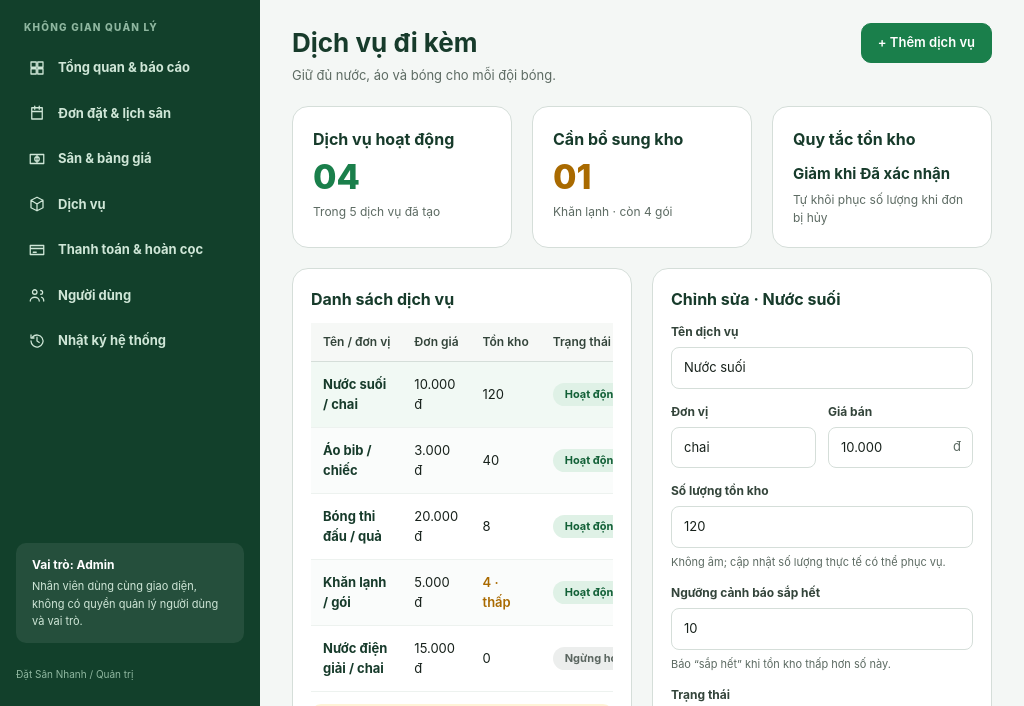
it: Admin Dịch vụ - sửa và thêm › "Hủy sửa" trả form về giá trị đã lưu
The width and height of the screenshot is (1024, 706).
Expected: the heading "Chỉnh sửa · Nước suối" is shown, [671,289,840,309]
In the field labelled "Tên dịch vụ": (822, 368) [671,347,973,388], type " thêm"
(page scrolled)
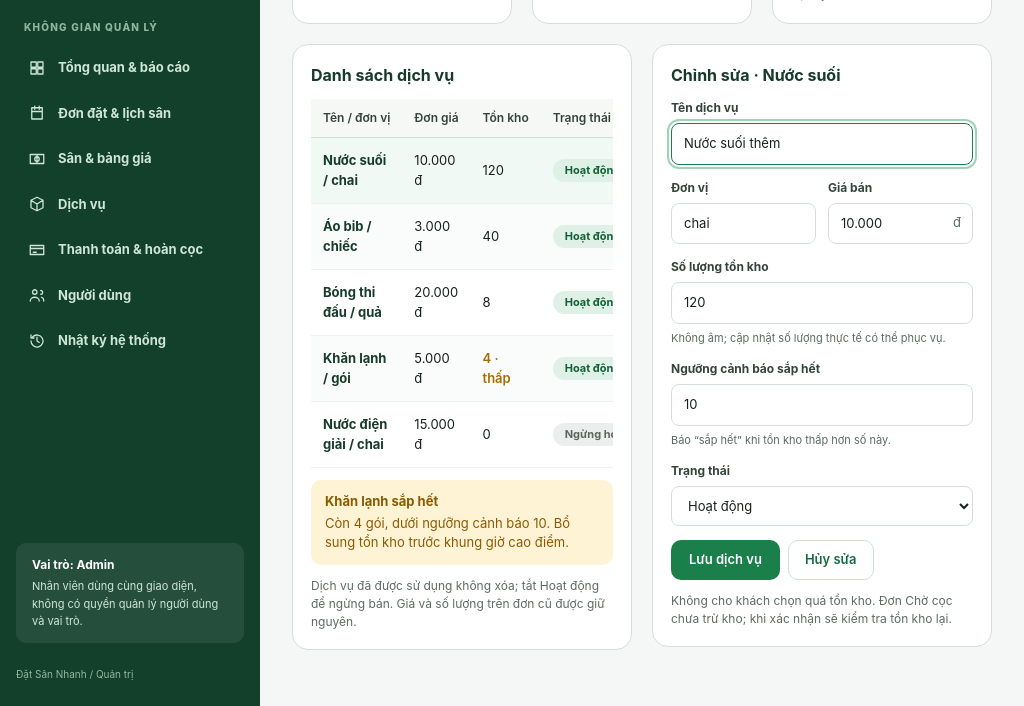
Now the field labelled "Tên dịch vụ" holds "Nước suối thêm", box [671,123,973,164]
Click the button "Hủy sửa": click(831, 560) [788,540,874,580]
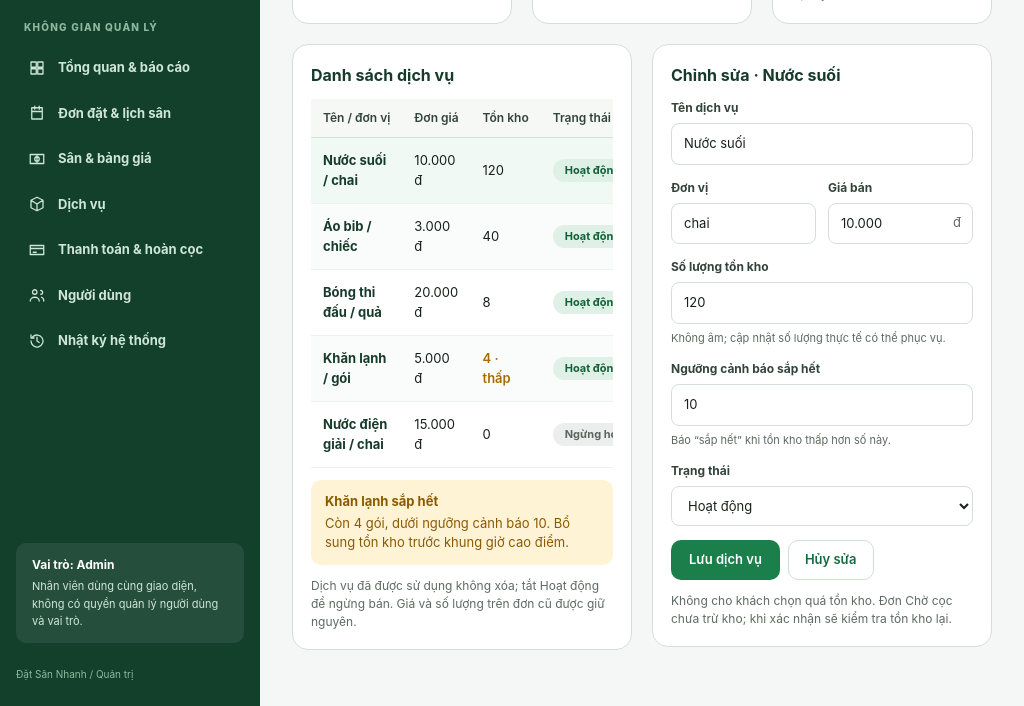
Now the field labelled "Tên dịch vụ" holds "Nước suối", box [671,123,973,164]
